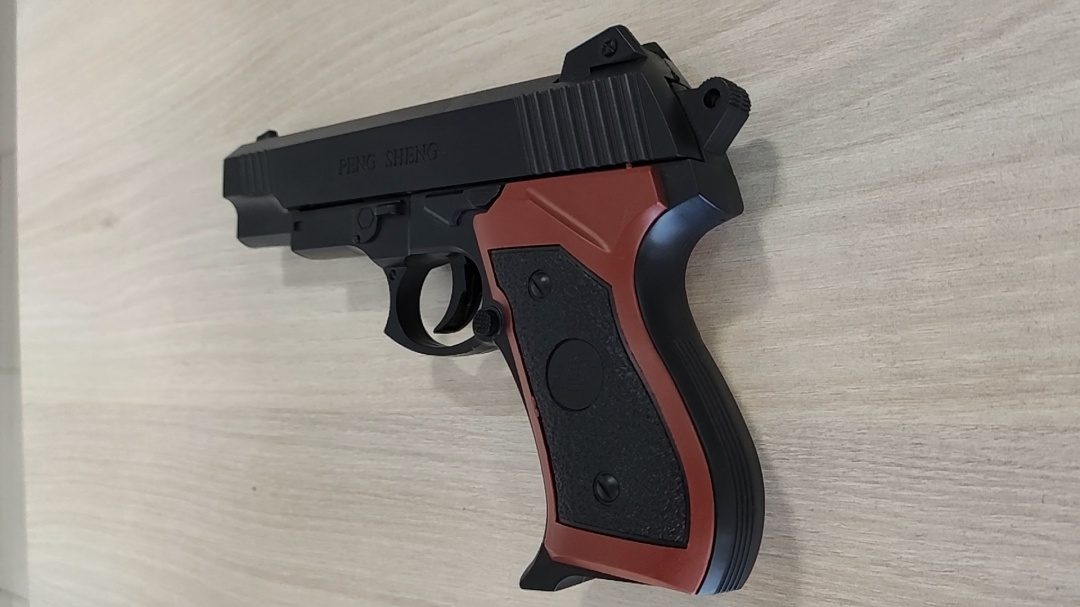gun: (222, 26, 767, 593)
